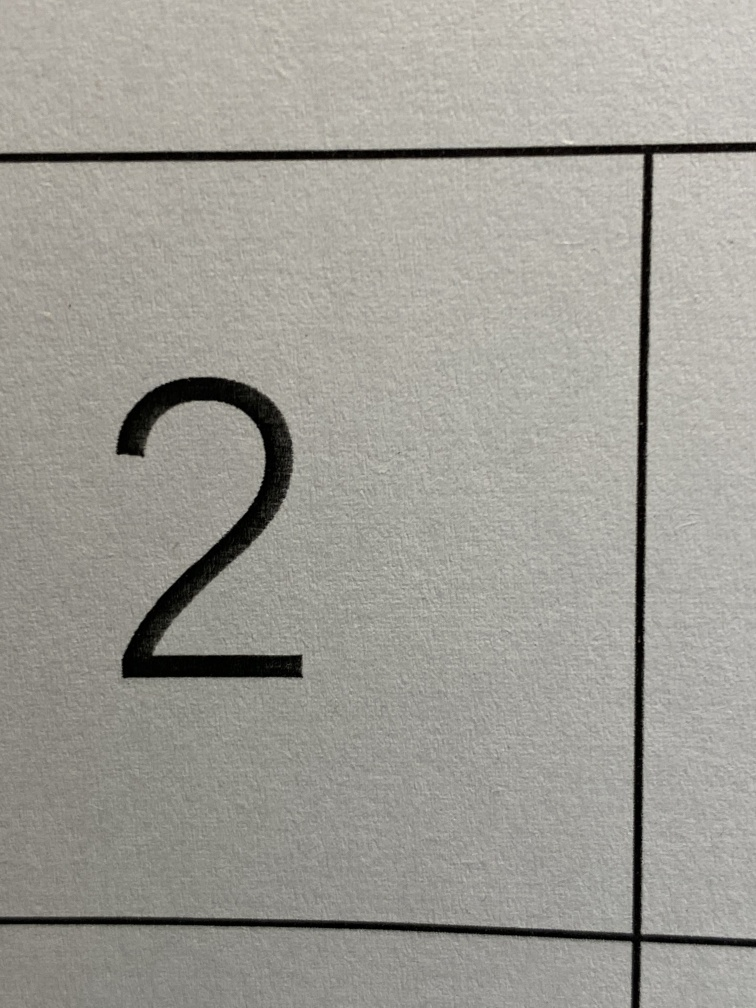two: (56, 333, 362, 746)
